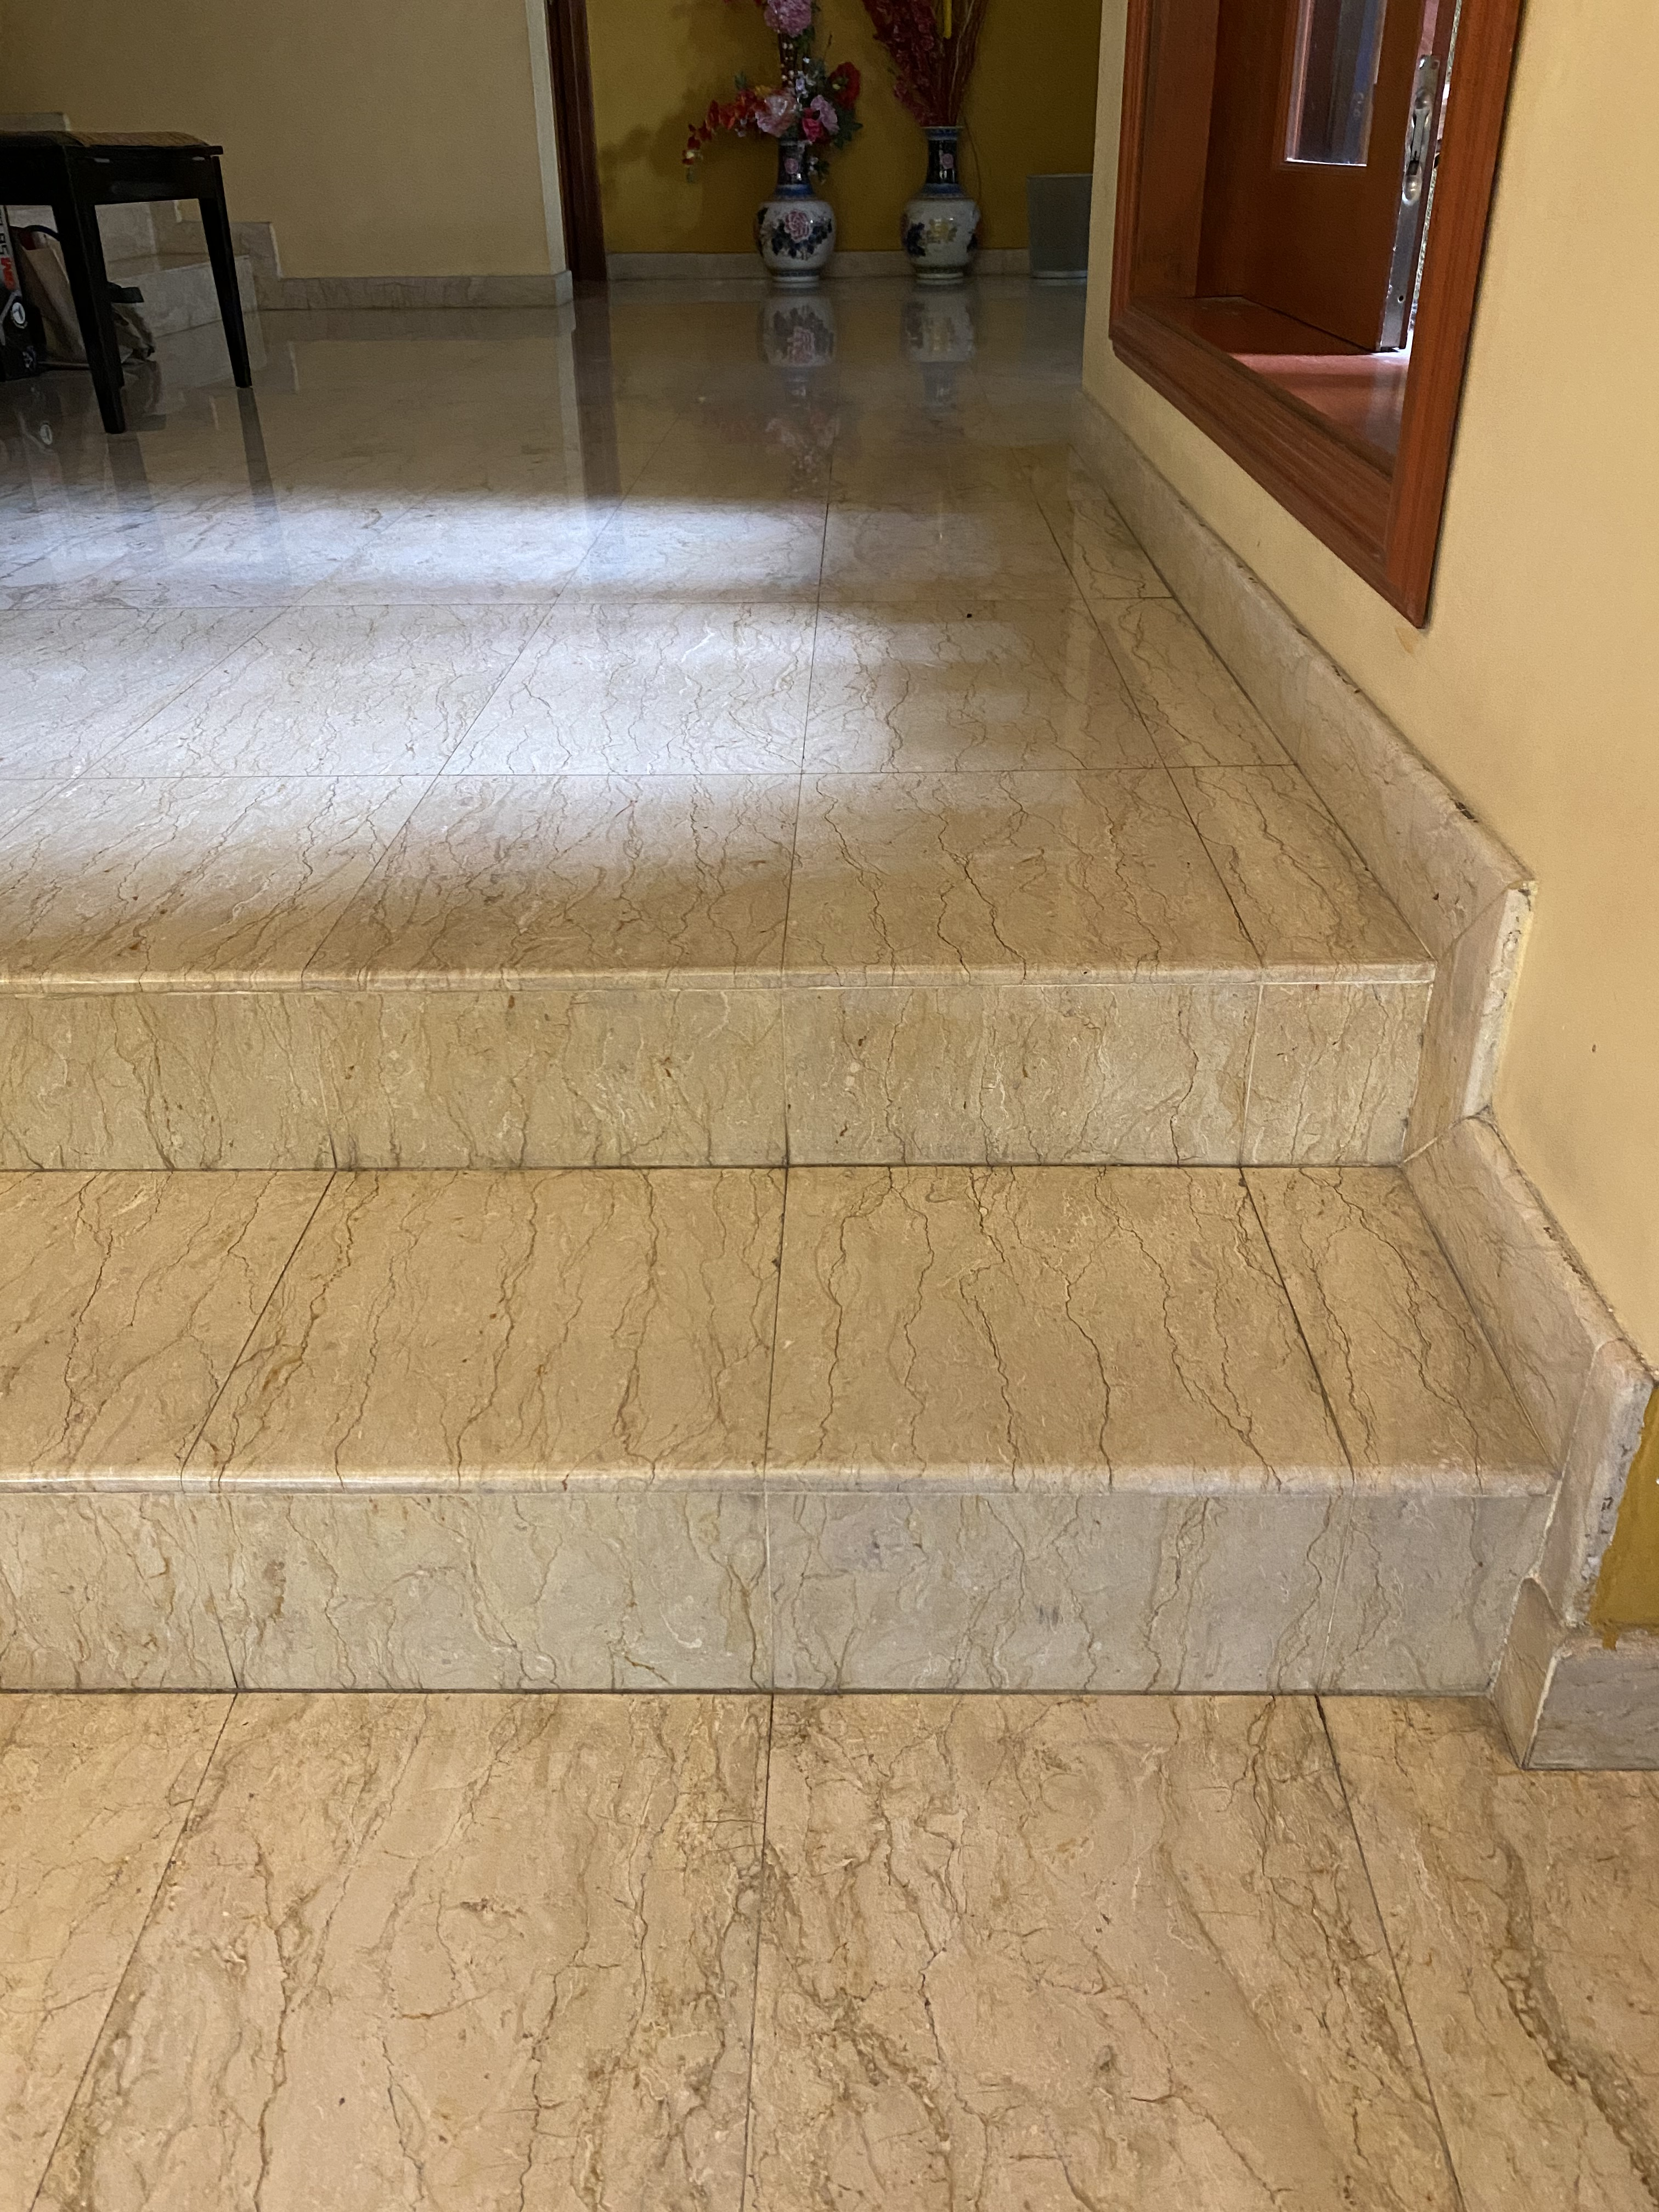upstairs: (0, 813, 1340, 1888)
